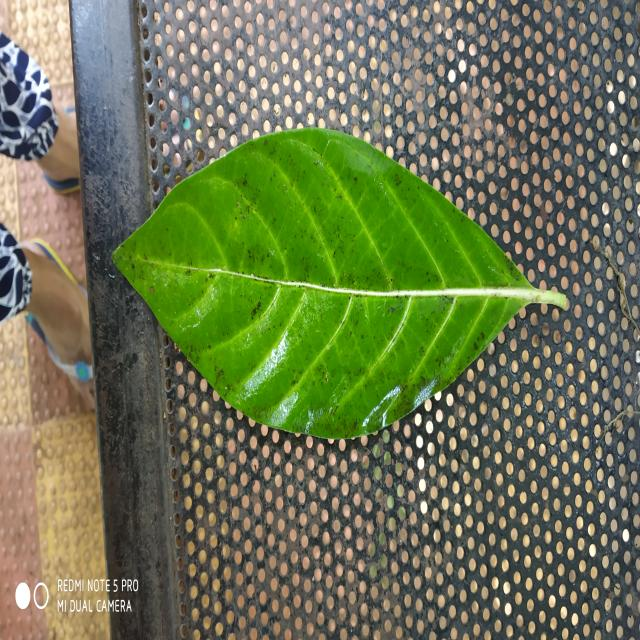nooni: (114, 129, 550, 438)
